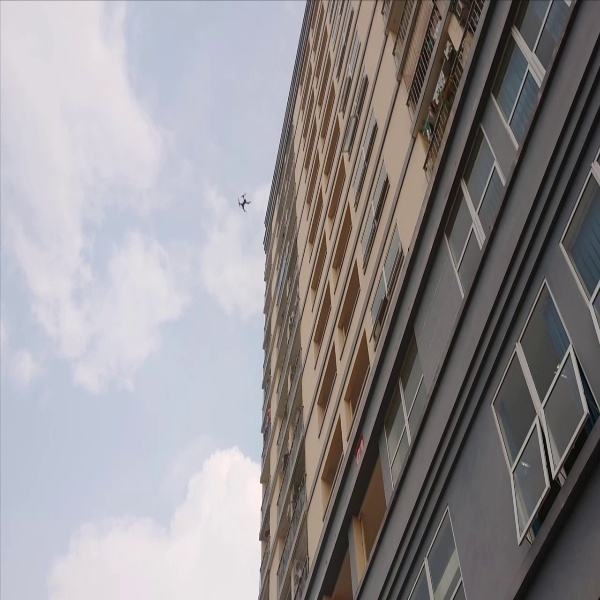drone: (232, 186, 259, 214)
